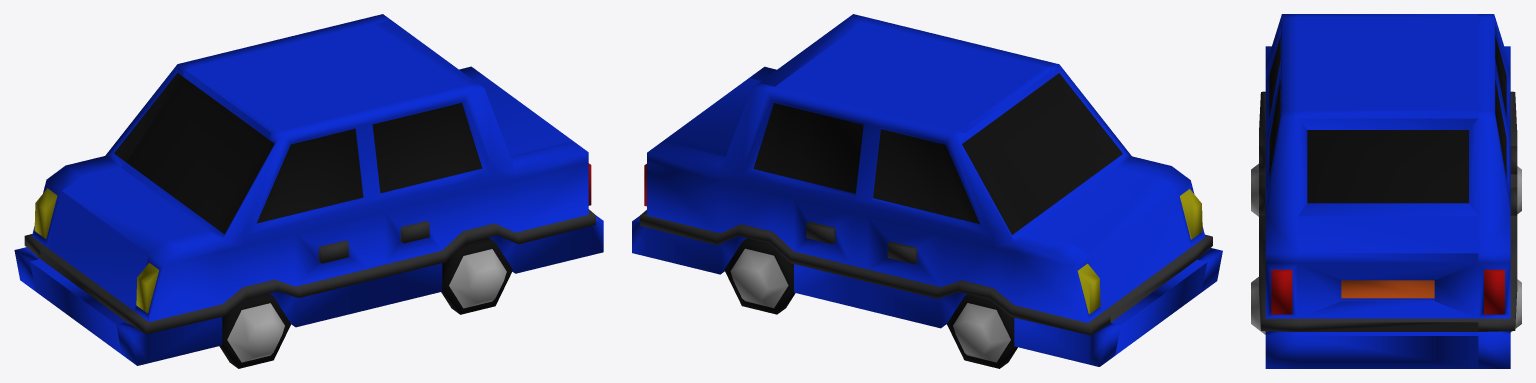
Rendered from Lowpoly Car01.fbx.
3 views of the same model, side by side, from view 1: azimuth 30°, elevation 25°; view 2: azimuth 150°, elevation 25°; view 3: azimuth 270°, elevation 25° (orthographic). The views are drawn at different scales.
Parts seen in each view (by area): view 1: Box037, Cylinder005, Cylinder004; view 2: Box037, Cylinder007, Cylinder006; view 3: Box037, Cylinder005, Cylinder004, Cylinder007.
Part boxes in pixels (x1,y1,x2,y2): Box037: (14, 14, 603, 365); Cylinder005: (441, 237, 512, 314); Cylinder004: (219, 293, 291, 368); Box037: (632, 14, 1222, 366); Cylinder007: (724, 238, 795, 314); Cylinder006: (947, 294, 1017, 368); Box037: (1259, 14, 1517, 368); Cylinder005: (1251, 277, 1265, 334); Cylinder004: (1251, 163, 1258, 216); Cylinder007: (1510, 279, 1521, 332).
Bounding box in the file's own units: 26.83 × 11.67 × 12.78.
